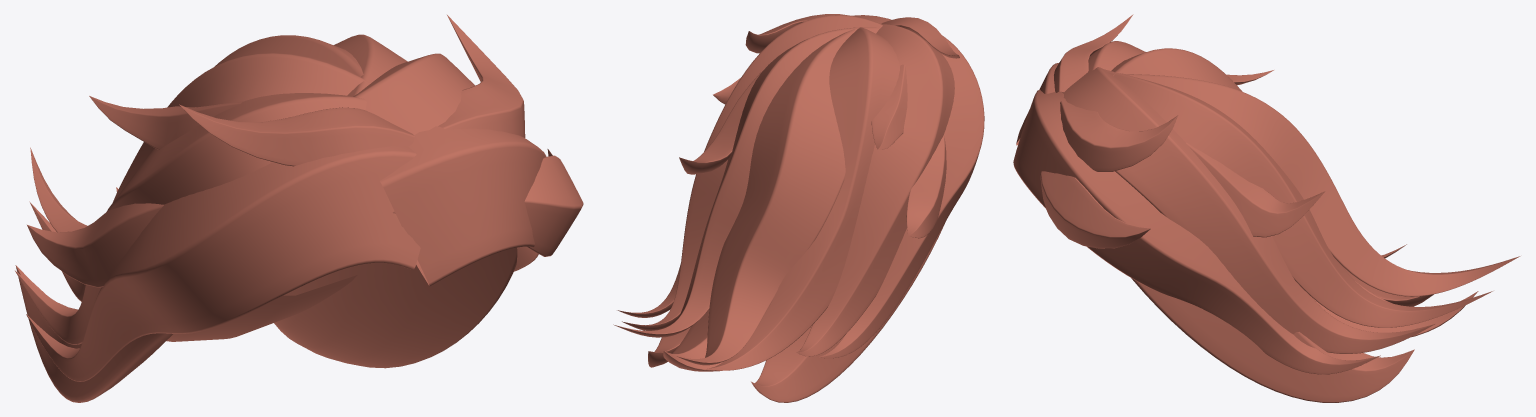
File: VuurtjeHair.fbx
3 views of the same model, side by side, from view 1: azimuth 30°, elevation 25°; view 2: azimuth 150°, elevation 25°; view 3: azimuth 270°, elevation 25° (orthographic). The views are drawn at different scales.
Parts seen in each view (by area): view 1: VuurtjeHair; view 2: VuurtjeHair; view 3: VuurtjeHair.
Part boxes in pixels (x1,y1,x2,y2): VuurtjeHair: (15, 15, 583, 402); VuurtjeHair: (613, 14, 984, 402); VuurtjeHair: (1013, 14, 1520, 402).
Bounding box in the file's own units: 2.2 × 2.28 × 3.59.
